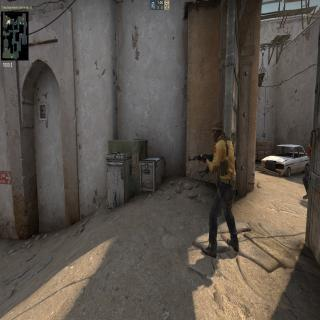T-Head: (212, 118, 224, 144)
